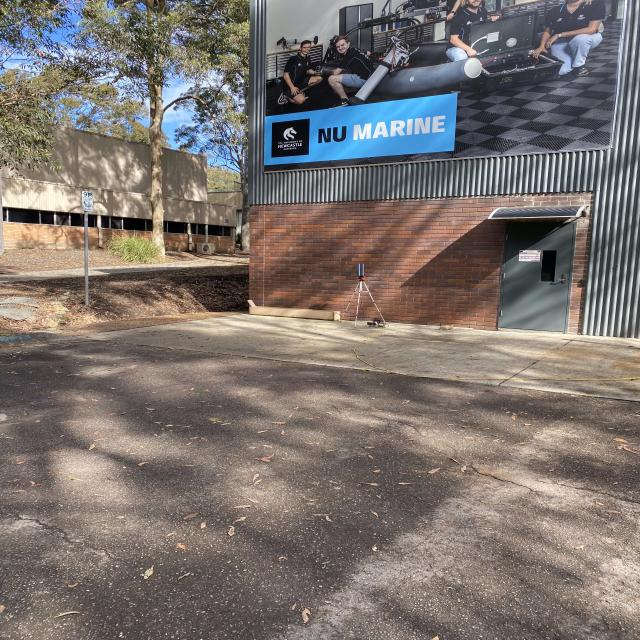matrix: (356, 263, 366, 276)
